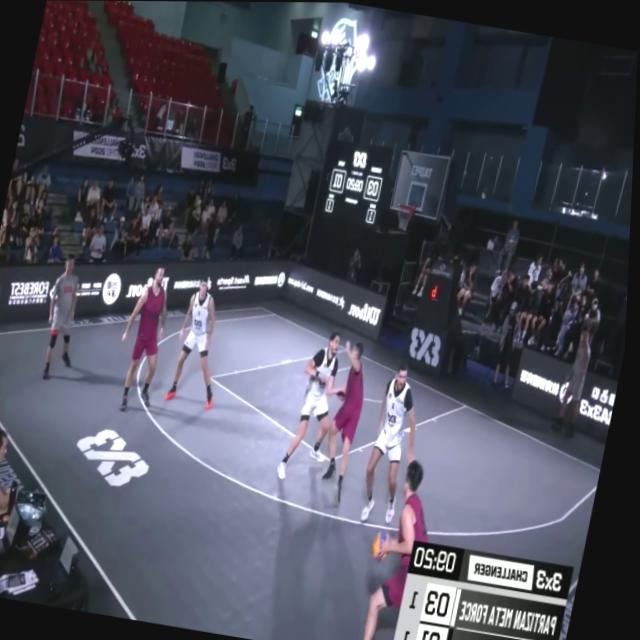ball: (372, 522, 399, 562)
hoop: (390, 197, 422, 238)
player: (352, 455, 494, 640), (359, 353, 441, 535), (279, 329, 358, 490), (309, 338, 378, 508), (114, 261, 183, 416), (166, 274, 237, 417)
